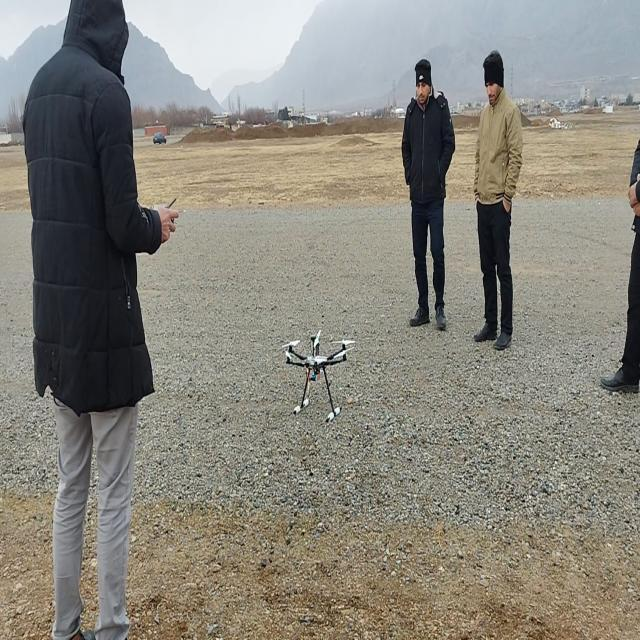drone: (280, 325, 356, 425)
